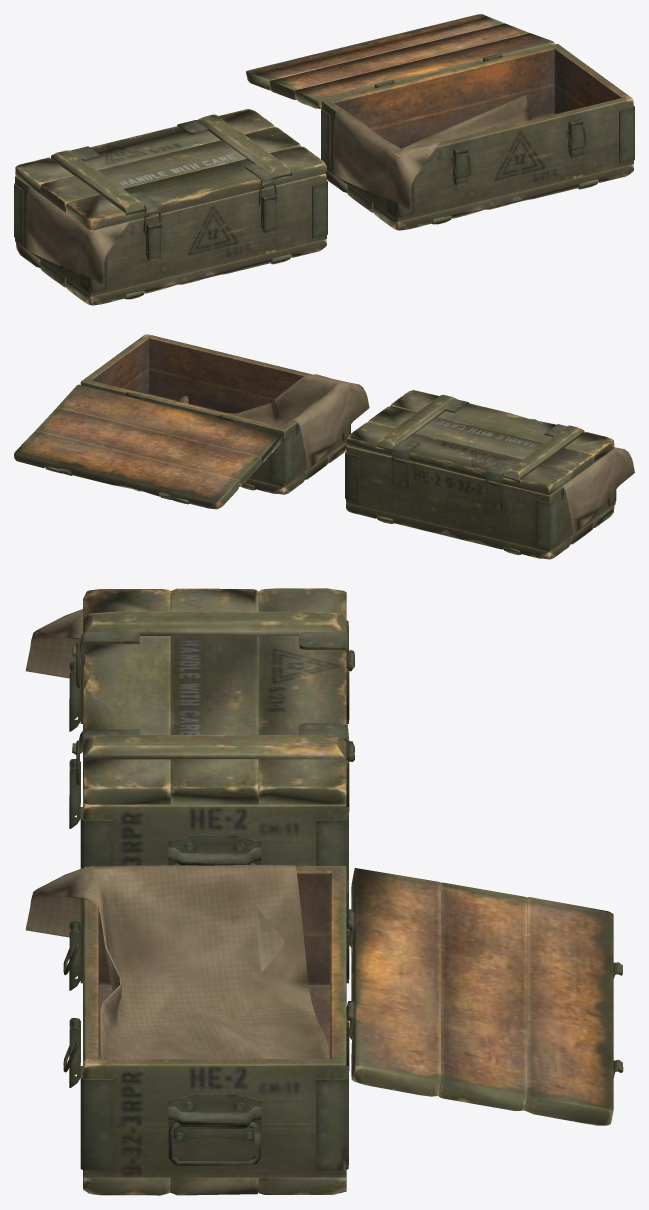
The model's file is old_military_crate.gltf.
The picture shows the model from 3 angles, top to bottom: view 1: azimuth 30°, elevation 25°; view 2: azimuth 150°, elevation 25°; view 3: azimuth 270°, elevation 25°; orthographic projection. The views are drawn at different scales.
Visible parts, largest first — view 1: old_military_crate_b, old_military_crate_lid_a, old_military_crate_a, old_military_crate_lid_b, old_military_crate_cloth_b, old_military_crate_cloth_a, old_military_crate_latch_a, old_military_crate_latch_b; view 2: old_military_crate_lid_b, old_military_crate_lid_a, old_military_crate_a, old_military_crate_b, old_military_crate_cloth_b, old_military_crate_cloth_a; view 3: old_military_crate_lid_a, old_military_crate_lid_b, old_military_crate_b, old_military_crate_cloth_b, old_military_crate_a, old_military_crate_cloth_a, old_military_crate_latch_b, old_military_crate_latch_a.
Boxes of the visible parts, x1,y1,x2,y2 form: old_military_crate_b: (321, 43, 634, 230); old_military_crate_lid_a: (15, 109, 326, 230); old_military_crate_a: (14, 173, 327, 305); old_military_crate_lid_b: (246, 14, 554, 108); old_military_crate_cloth_b: (333, 95, 531, 209); old_military_crate_cloth_a: (25, 186, 129, 284); old_military_crate_latch_a: (145, 193, 276, 261); old_military_crate_latch_b: (453, 118, 583, 186); old_military_crate_lid_b: (14, 384, 282, 509); old_military_crate_lid_a: (346, 390, 614, 495); old_military_crate_a: (345, 445, 616, 559); old_military_crate_b: (80, 334, 350, 494); old_military_crate_cloth_b: (176, 374, 369, 470); old_military_crate_cloth_a: (562, 447, 634, 535); old_military_crate_lid_a: (72, 588, 354, 805); old_military_crate_lid_b: (346, 868, 623, 1125); old_military_crate_b: (80, 866, 354, 1195); old_military_crate_cloth_b: (25, 865, 329, 1058); old_military_crate_a: (80, 620, 354, 883); old_military_crate_cloth_a: (25, 609, 82, 678); old_military_crate_latch_b: (69, 920, 80, 1087); old_military_crate_latch_a: (69, 661, 80, 828).
Size of the model in its own units: 1.81 by 0.3009 by 0.9753.
1 material, 1 textured.
